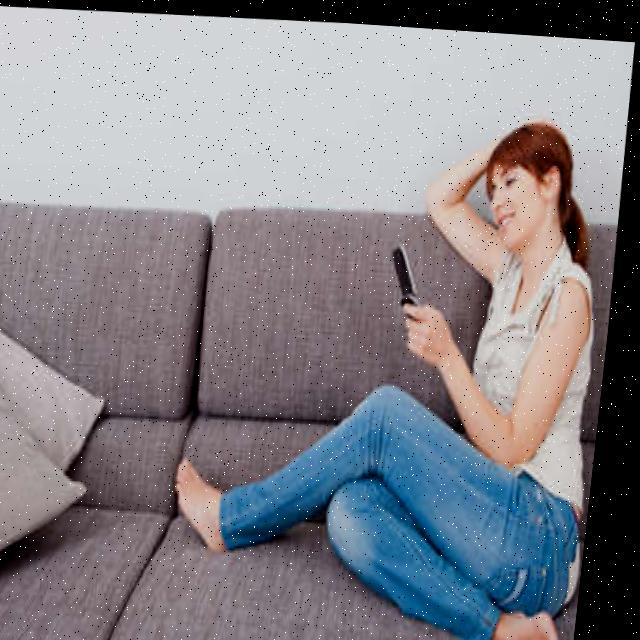smartphone-person: (157, 80, 634, 640)
